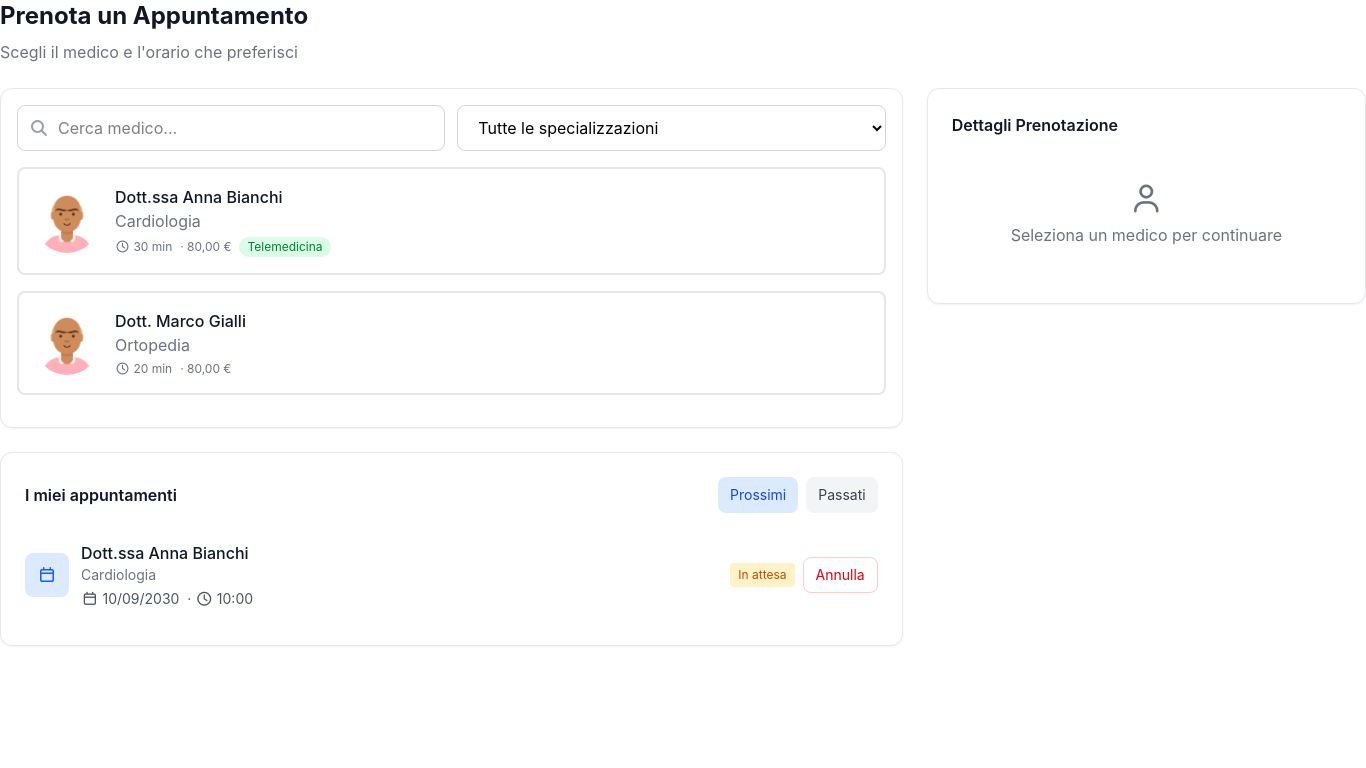
Test case: Prenotazione visite (paziente) › apre il modal di annullamento con i dati della visita
The width and height of the screenshot is (1366, 768).
Step 1. Click the button "Annulla" → point(840, 575), box [802,557,878,593]
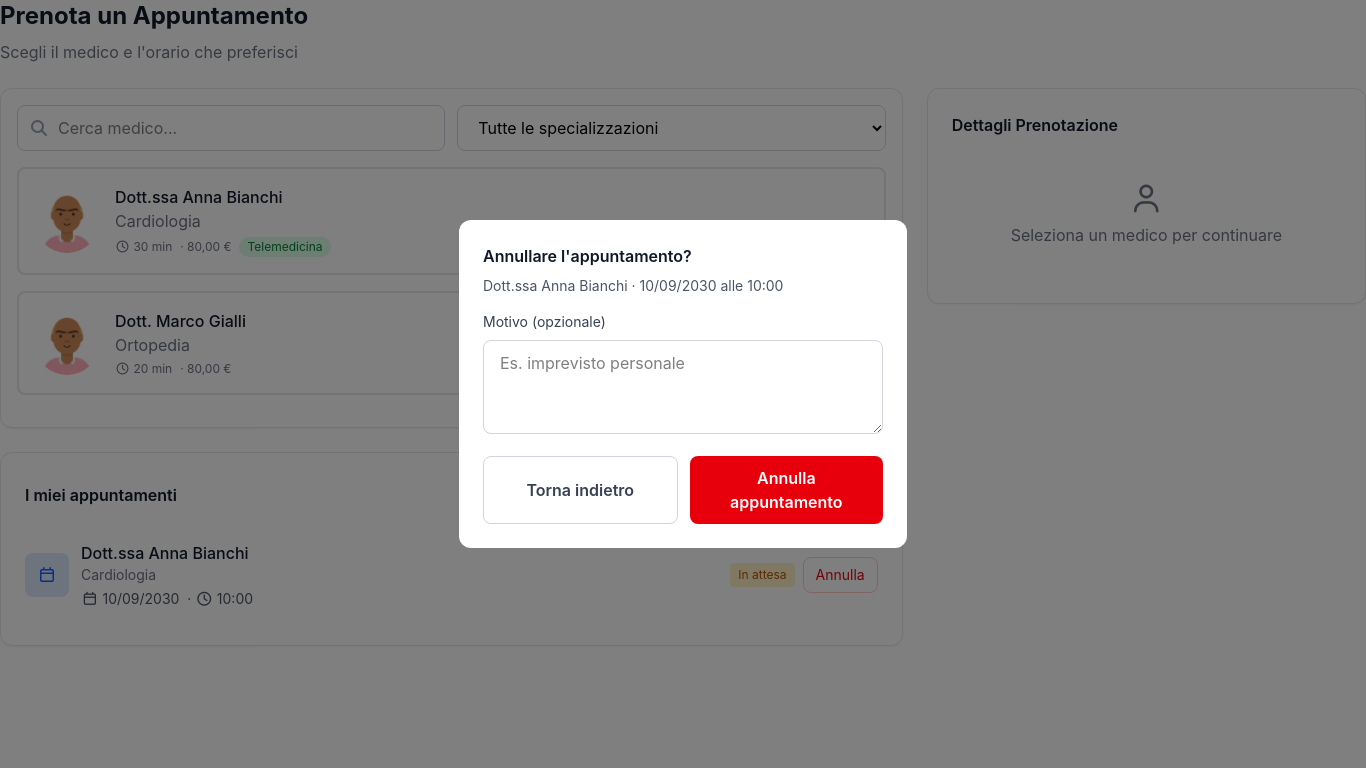
expect the dialog is shown: met
expect the dialog shows "Annullare l'appuntamento?": met, box [483,246,692,266]
expect the dialog shows "Dott.ssa Anna Bianchi": met, box [483,277,783,294]
